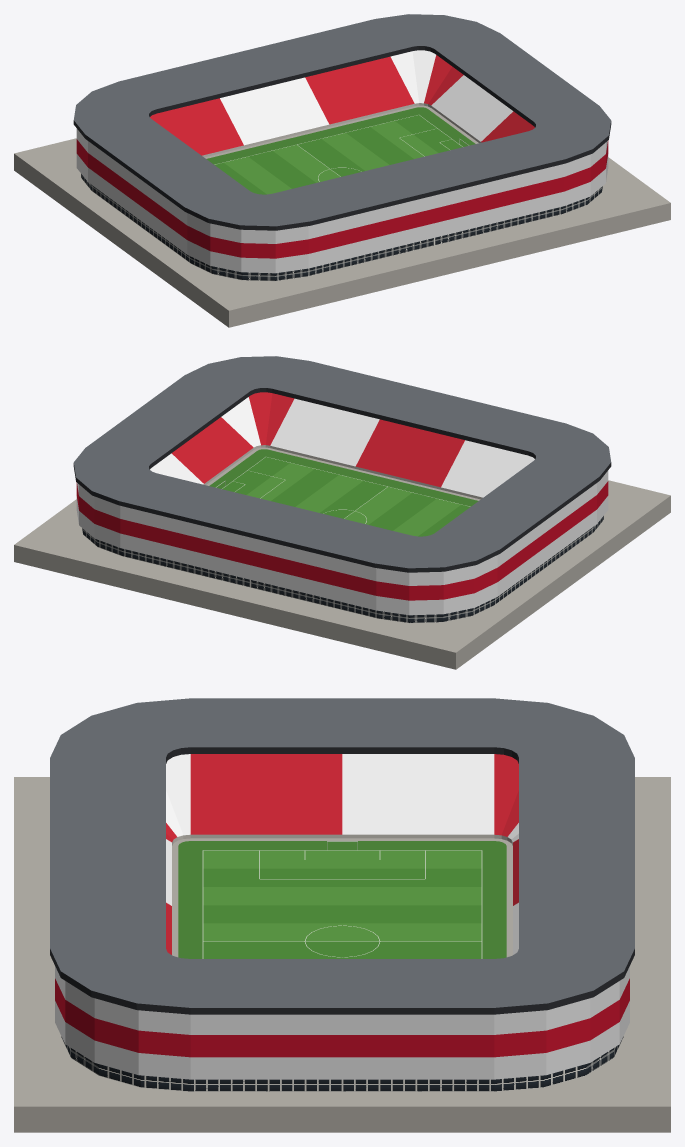
Rendered from stade_saint_gall.glb.
The picture shows the model from 3 angles, top to bottom: view 1: azimuth 30°, elevation 25°; view 2: azimuth 150°, elevation 25°; view 3: azimuth 270°, elevation 25°; orthographic projection. The views are drawn at different scales.
Visible parts, largest first — view 1: stade_saint_gall; view 2: stade_saint_gall; view 3: stade_saint_gall.
Part boxes in pixels (x1,y1,x2,y2): stade_saint_gall: (14,14,670,327); stade_saint_gall: (14,356,670,669); stade_saint_gall: (14,698,670,1132).
Size of the model in its own units: 190 by 30.8 by 160.
2 materials, 2 textured.
